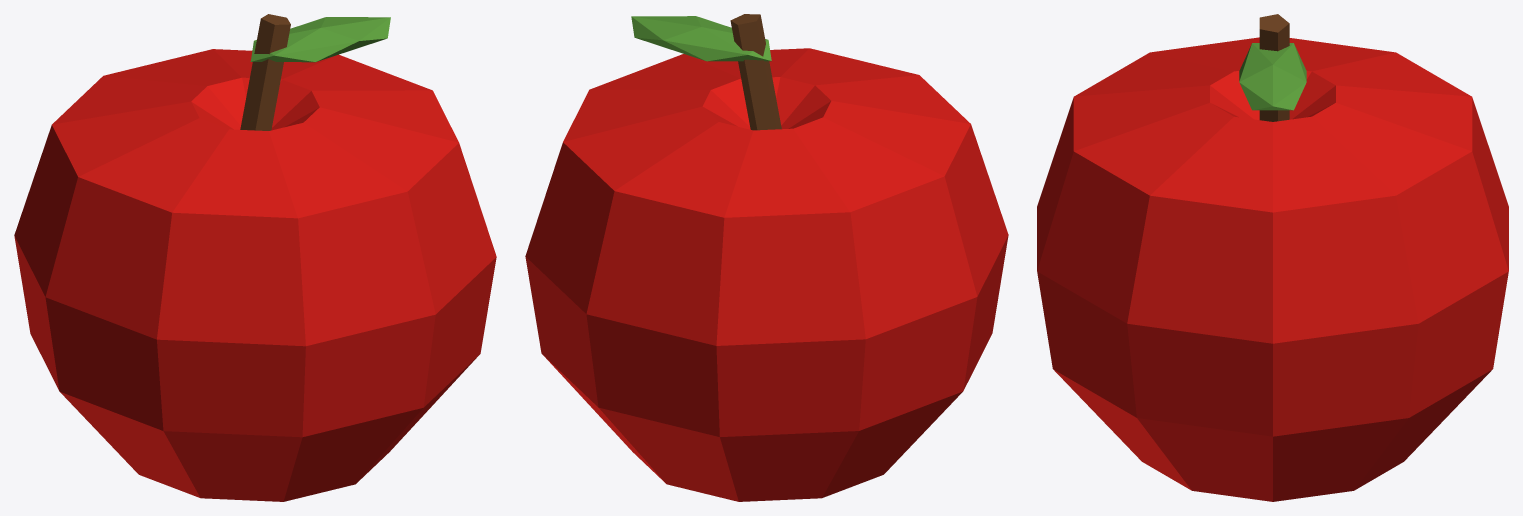
Rendered from apple.glb.
The picture shows the model from 3 angles, left to right: view 1: azimuth 30°, elevation 25°; view 2: azimuth 150°, elevation 25°; view 3: azimuth 270°, elevation 25°; orthographic projection. The views are drawn at different scales.
Visible parts, largest first — view 1: apple; view 2: apple; view 3: apple.
Boxes of the visible parts, x1,y1,x2,y2 form: apple: (14,14,496,501); apple: (525,14,1008,501); apple: (1037,14,1508,501).
Bounding box in the file's own units: 0.09 × 0.0908 × 0.0856.
